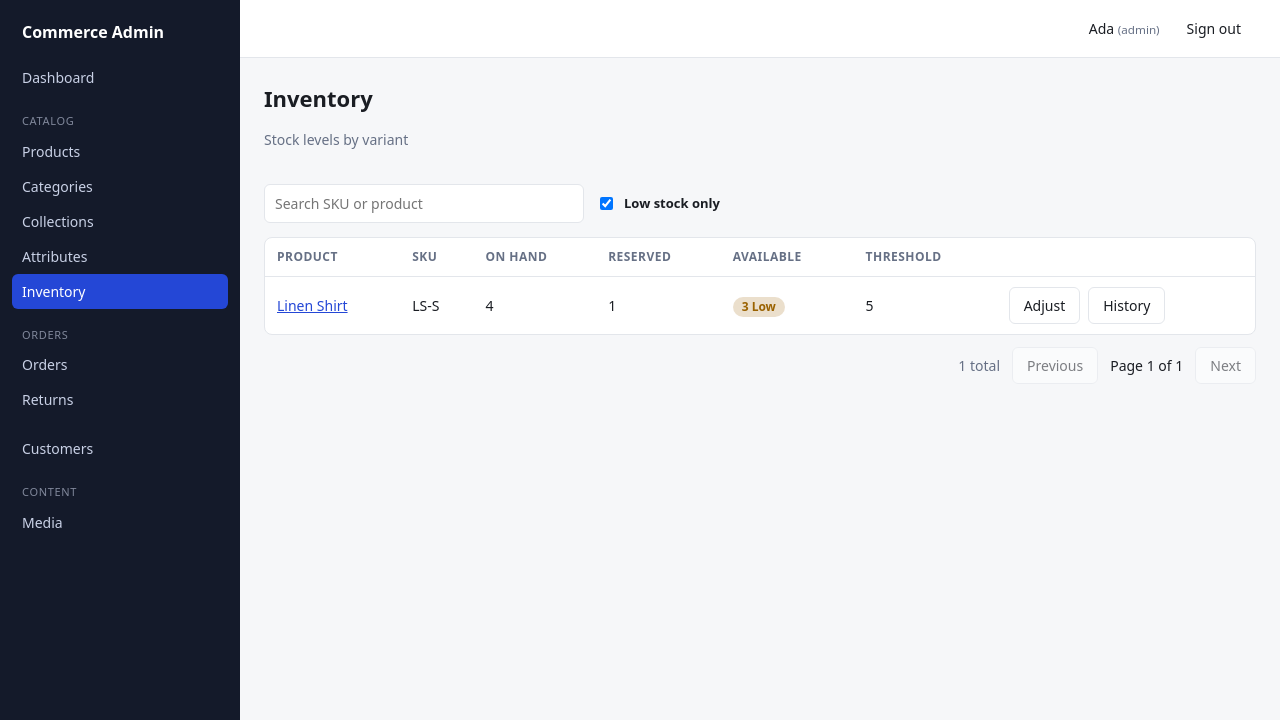
Test: inventory › requires a reason and sends a delta adjustment
Check: the link "Linen Shirt" is shown, box x1=277 y1=296 x2=348 y2=315
Step 1. Click the button named "Adjust LS-S" → (1044, 306), box x1=1009 y1=287 x2=1080 y2=324
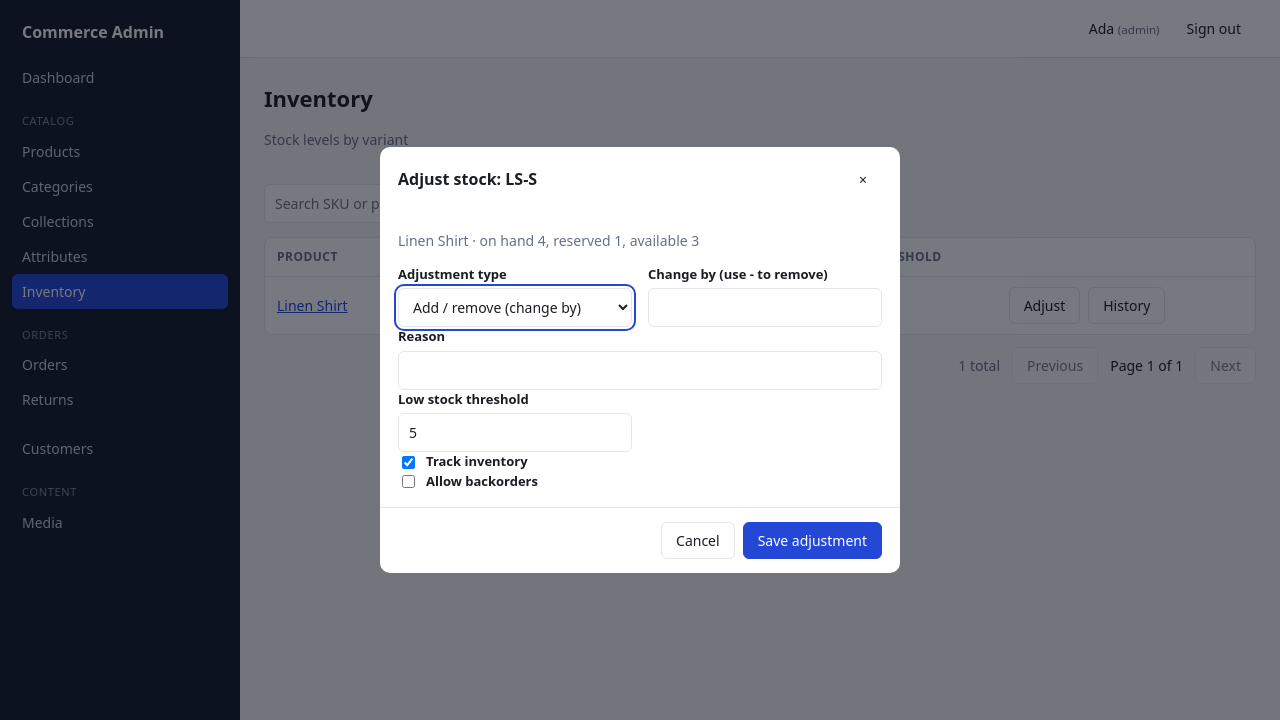
Step 2. Type "-2" into the field labelled "Change by (use - to remove)" → (765, 308), box x1=648 y1=288 x2=882 y2=327
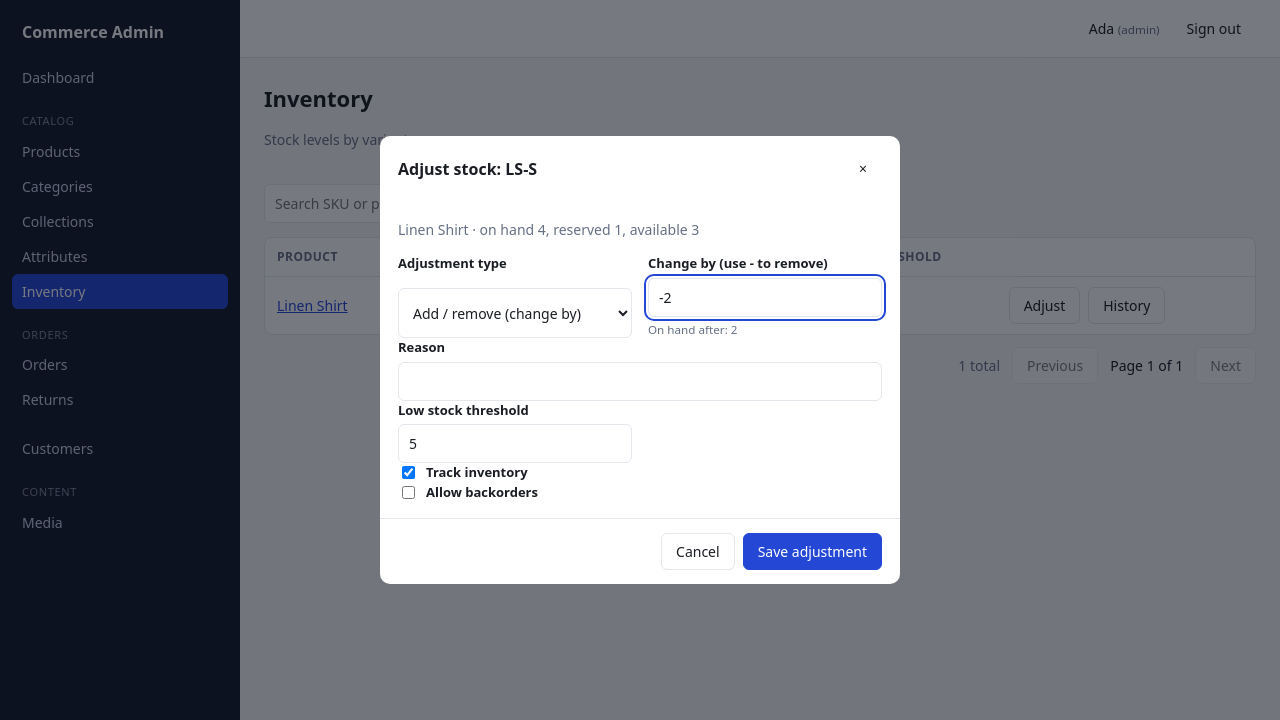
Step 3. Click the button "Save adjustment" → (812, 552), box x1=743 y1=533 x2=882 y2=570
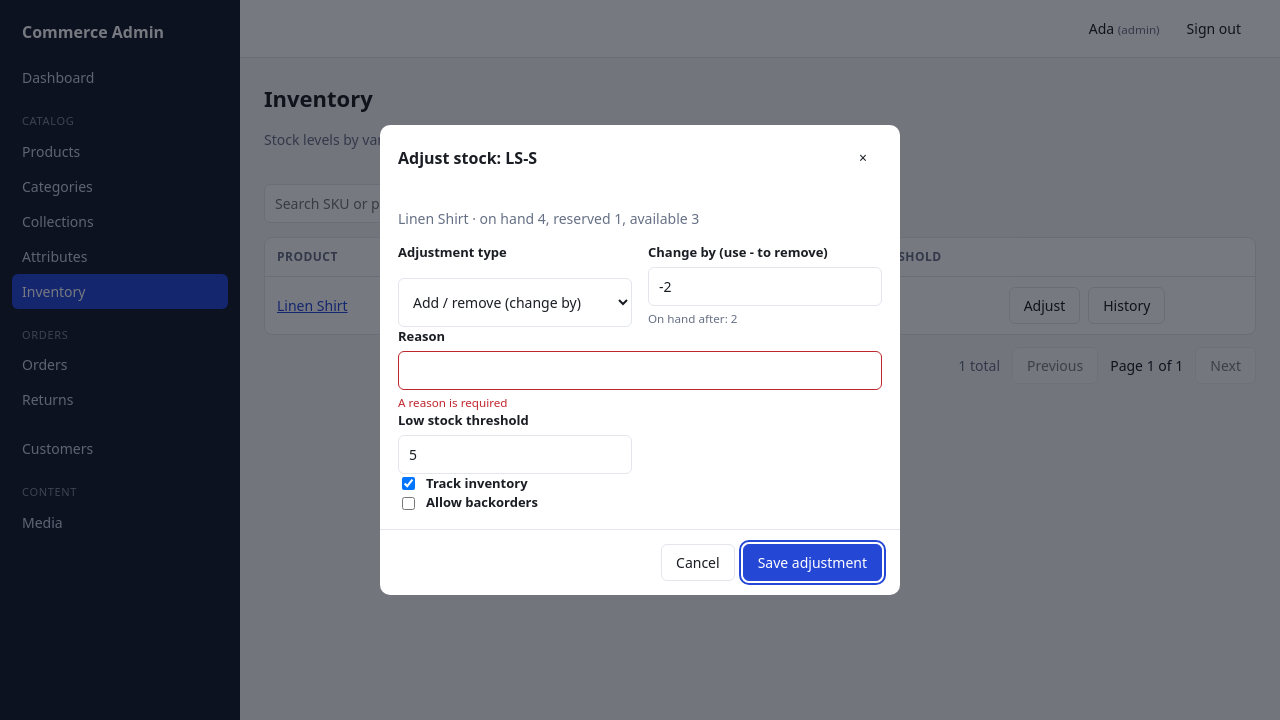
Check: the text "A reason is required" is shown, box x1=398 y1=395 x2=508 y2=410
Step 4. Type "Damaged" into the field labelled "Reason" → (640, 370), box x1=398 y1=351 x2=882 y2=390
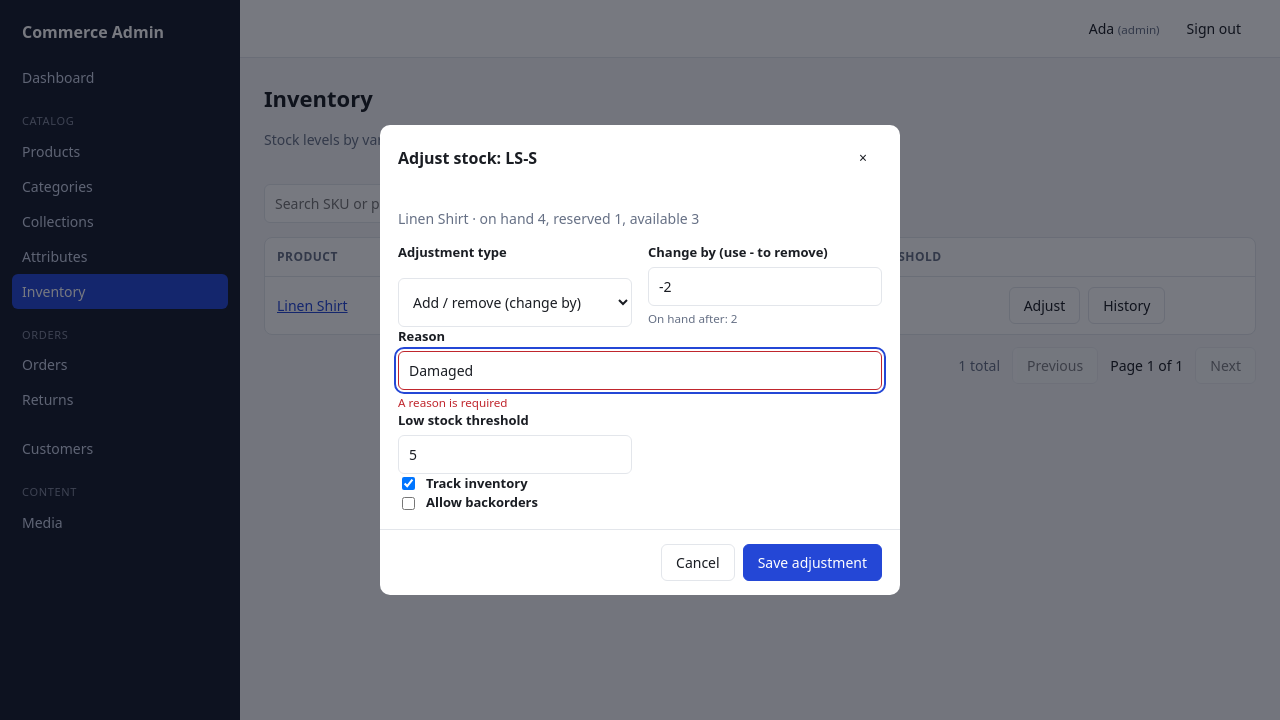
Step 5. Click the button "Save adjustment" → (812, 562), box x1=743 y1=544 x2=882 y2=581
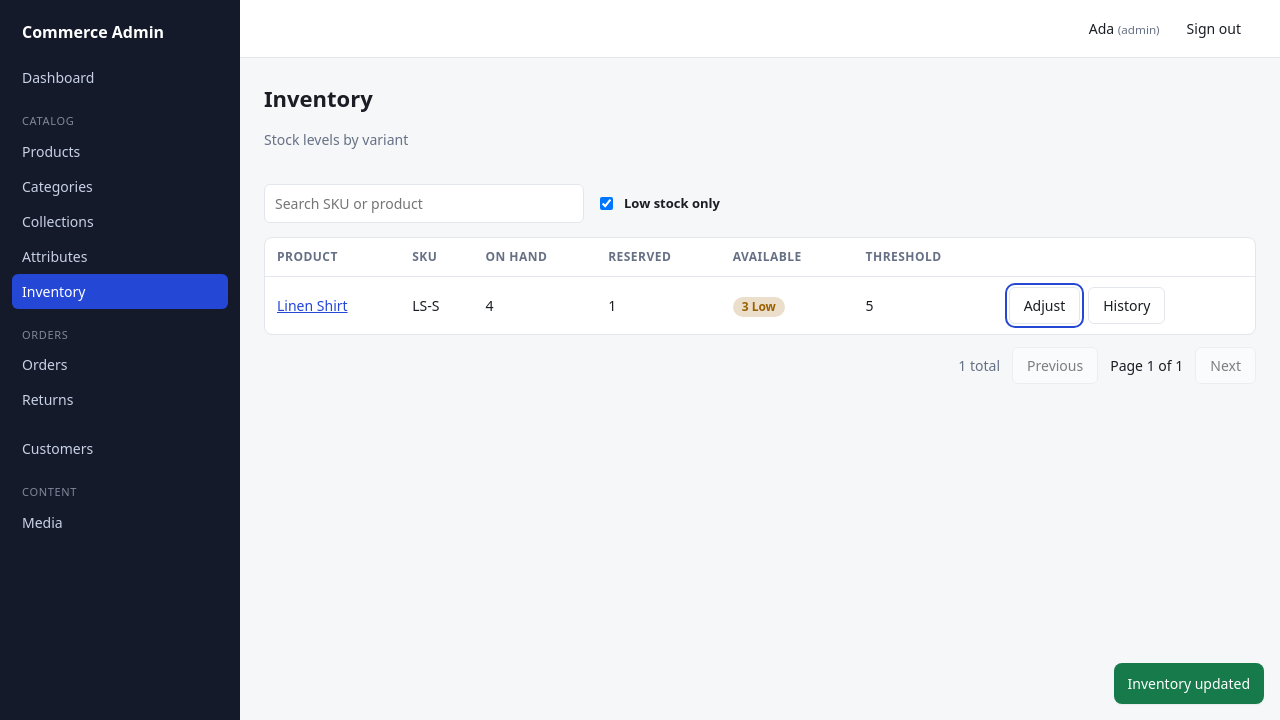
Step 6. Click the button named "History LS-S" → (1127, 306), box x1=1088 y1=287 x2=1165 y2=324
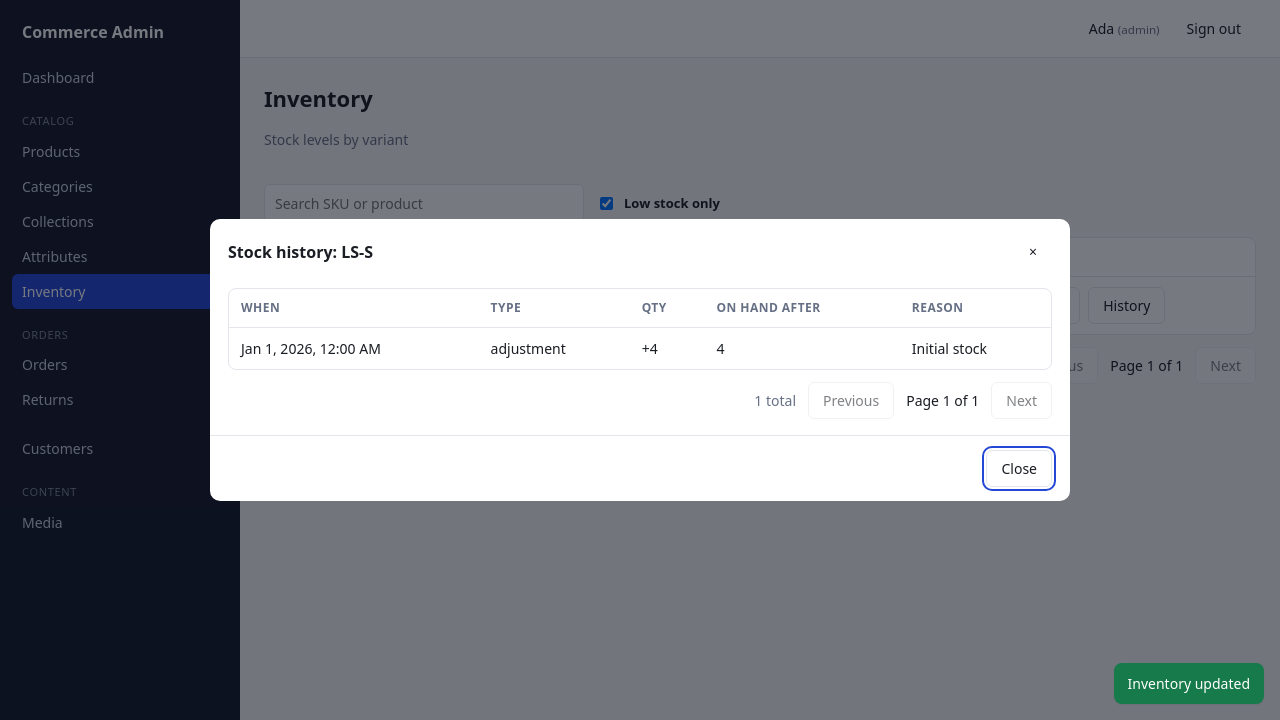
Check: the text "Initial stock" is shown, box x1=900 y1=328 x2=1051 y2=369
